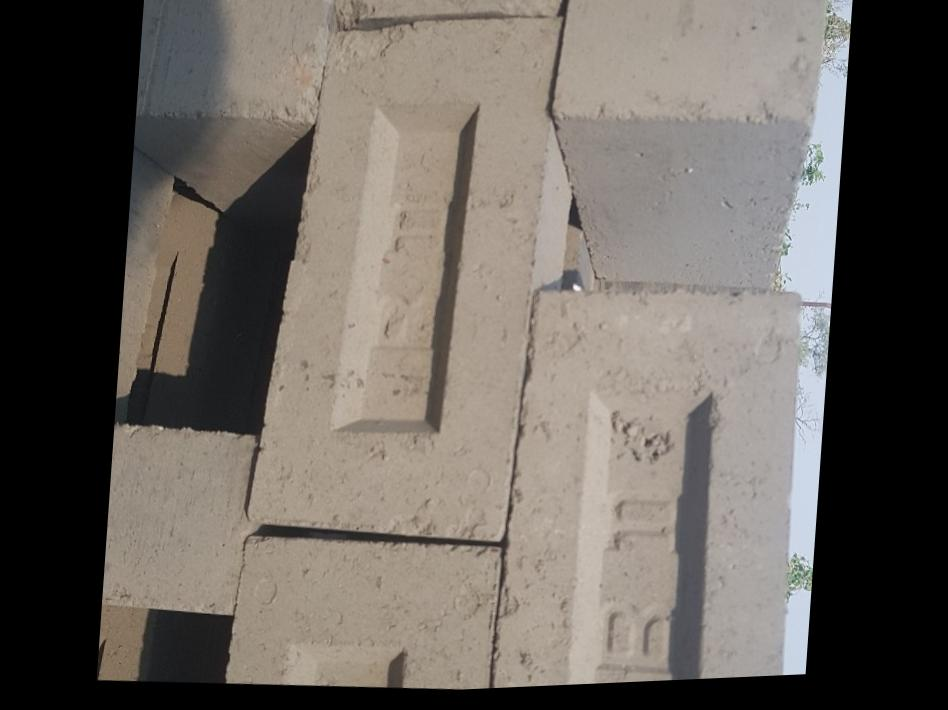brick: (238, 0, 558, 551), (479, 274, 810, 689), (208, 525, 501, 701), (545, 0, 826, 141), (100, 422, 251, 620), (134, 0, 329, 133), (334, 0, 562, 30)
